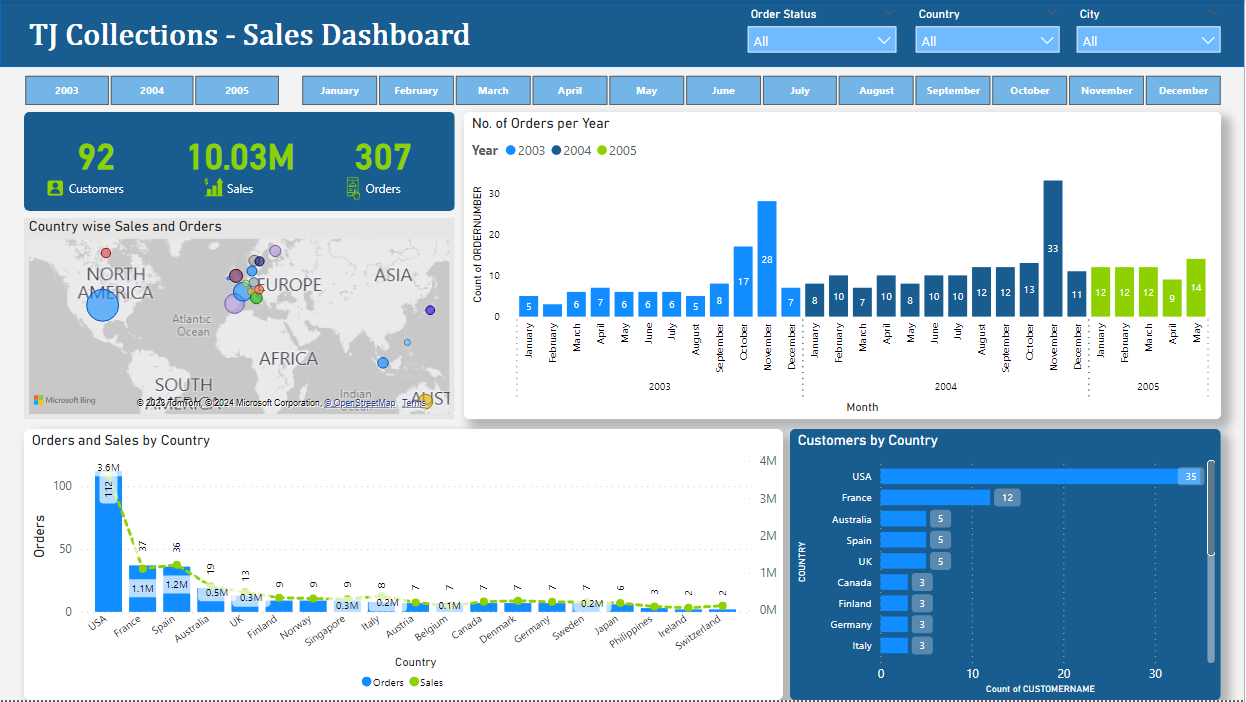

Layout of this report page (visuals, bound fields, positions):
{"tool":"powerbi","page":{"name":"KPI's","canvas":[1280,720],"ordinal":1},"visuals":[{"type":"shape","box":[0,0,1280,68.9],"z":0},{"type":"shape","box":[24.7,115.2,443.5,101.9],"z":1000},{"type":"slicer","fields":{"Values":["sales_data.ORDERDATE.Variation.Date Hierarchy.Year"]},"box":[0,71,310.7,44.2],"z":2000},{"type":"slicer","fields":{"Values":["sales_data.ORDERDATE.Variation.Date Hierarchy.Month"]},"box":[285,71,995,44.2],"z":3000},{"type":"card","fields":{"Values":["Count(sales_data.CUSTOMERNAME)"]},"box":[24.7,115.2,148.2,101.9],"z":4000},{"type":"card","fields":{"Values":["Sum(sales_data.SALES)"]},"box":[172.9,115.2,148.2,101.9],"z":5000},{"type":"card","fields":{"Values":["Count(sales_data.ORDERNUMBER)"]},"box":[320,115.2,148.2,101.9],"z":6000},{"type":"columnChart","title":"No. of Orders per Year","fields":{"Category":["sales_data.ORDERDATE.Variation.Date Hierarchy.Year","sales_data.ORDERDATE.Variation.Date Hierarchy.Month"],"Y":["Count(sales_data.ORDERNUMBER)"],"Series":["sales_data.ORDERDATE.Variation.Date Hierarchy.Year"]},"box":[477.4,115.2,778.9,315.9],"z":7000},{"type":"lineStackedColumnComboChart","title":"Orders and Sales by Country","fields":{"Category":["sales_data.COUNTRY"],"Y":["Count(sales_data.ORDERNUMBER)"],"Y2":["Sum(sales_data.SALES)"]},"box":[24.7,441.4,781,278.8],"z":8000},{"type":"barChart","title":"Customers by Country","fields":{"Category":["sales_data.COUNTRY"],"Y":["Count(sales_data.CUSTOMERNAME)"]},"box":[812.9,441.4,443.5,278.8],"z":9000},{"type":"map","title":"Country wise Sales and Orders","fields":{"Category":["sales_data.COUNTRY"],"Size":["Sum(sales_data.SALES)"]},"box":[24.7,224.3,443.5,206.8],"z":10000},{"type":"slicer","fields":{"Values":["sales_data.CITY"]},"box":[1097.9,2.1,167.7,55.6],"z":11000},{"type":"slicer","fields":{"Values":["sales_data.COUNTRY"]},"box":[932.2,2.1,167.7,55.6],"z":12000},{"type":"slicer","fields":{"Values":["sales_data.STATUS"]},"box":[759.4,2.1,172.9,55.6],"z":13000},{"type":"textbox","box":[24.7,13.4,492.9,55.6],"z":14000},{"type":"image","box":[43.2,178,26.8,29.8],"z":15000},{"type":"image","box":[202.7,178,35,29.8],"z":16000},{"type":"image","box":[342.6,177,41.2,34],"z":17000}]}

Visuals, with their boxes in screenshot pixels (x1, y1, x2, y2), scaled from the page's 1280x720 canvas onto the 1246x702 screenshot:
shape: 0/0/1245/67
shape: 24/112/456/212
slicer - sales_data.ORDERDATE.Variation.Date Hierarchy.Year: 0/69/302/112
slicer - sales_data.ORDERDATE.Variation.Date Hierarchy.Month: 277/69/1245/112
card - Count(sales_data.CUSTOMERNAME): 24/112/168/212
card - Sum(sales_data.SALES): 168/112/313/212
card - Count(sales_data.ORDERNUMBER): 312/112/456/212
"No. of Orders per Year" columnChart: 465/112/1223/420
"Orders and Sales by Country" lineStackedColumnComboChart: 24/430/784/701
"Customers by Country" barChart: 791/430/1223/701
"Country wise Sales and Orders" map: 24/219/456/420
slicer - sales_data.CITY: 1069/2/1232/56
slicer - sales_data.COUNTRY: 907/2/1071/56
slicer - sales_data.STATUS: 739/2/908/56
textbox: 24/13/504/67
image: 42/174/68/203
image: 197/174/231/203
image: 333/173/374/206
